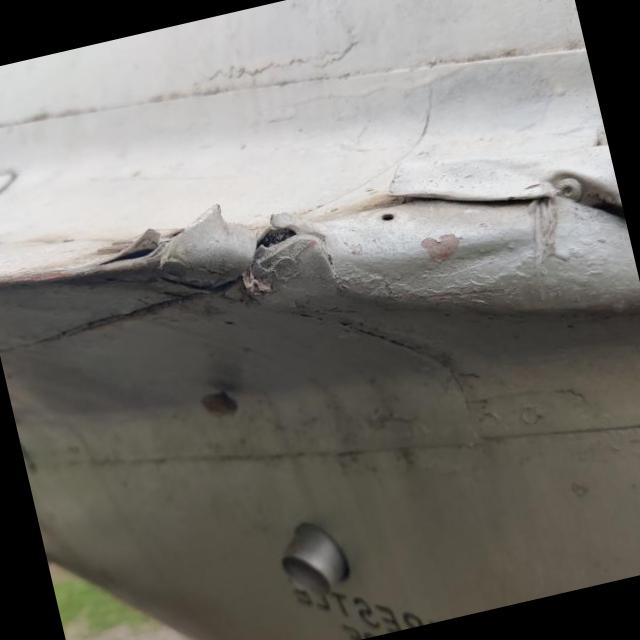Crack: (99, 229, 158, 264), (256, 213, 313, 247)
